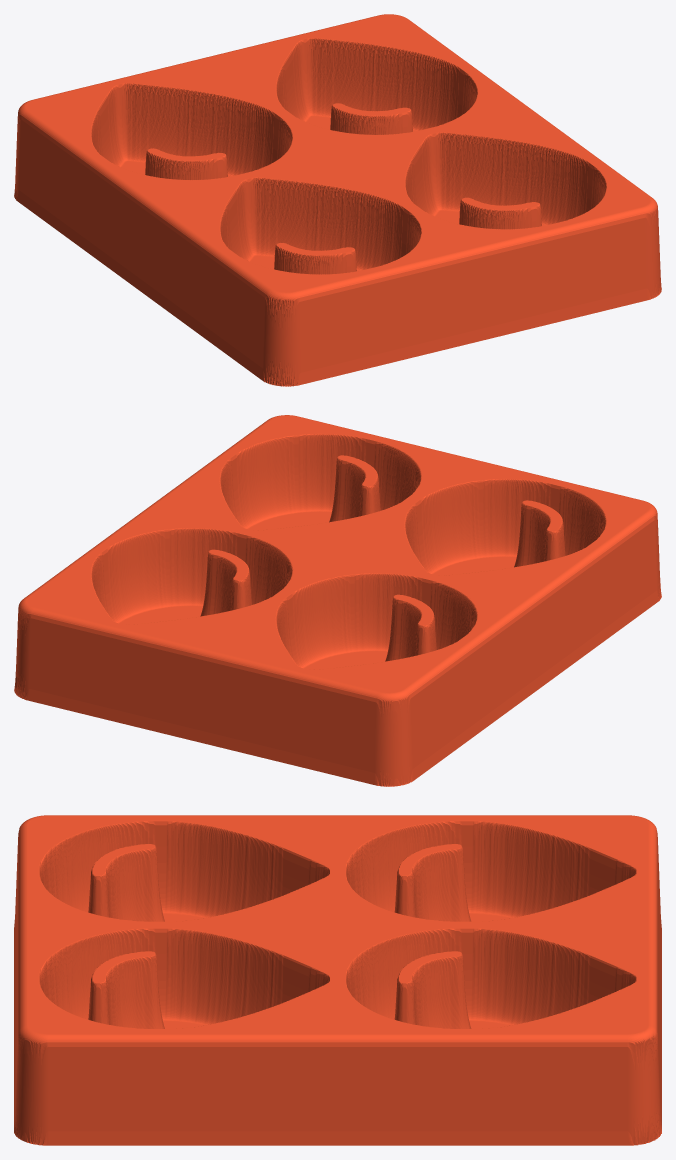
The model's file is mold.glb.
3 views of the same model, one above another, from view 1: azimuth 30°, elevation 25°; view 2: azimuth 150°, elevation 25°; view 3: azimuth 270°, elevation 25° (orthographic). The views are drawn at different scales.
Parts seen in each view (by area): view 1: geometry_0; view 2: geometry_0; view 3: geometry_0.
Boxes of the visible parts, x1=… form: geometry_0: x1=14, y1=14, x2=661, y2=386; geometry_0: x1=14, y1=415, x2=661, y2=786; geometry_0: x1=14, y1=815, x2=661, y2=1145.
Bounding box in the file's own units: 0.1442 × 0.031 × 0.1721.
